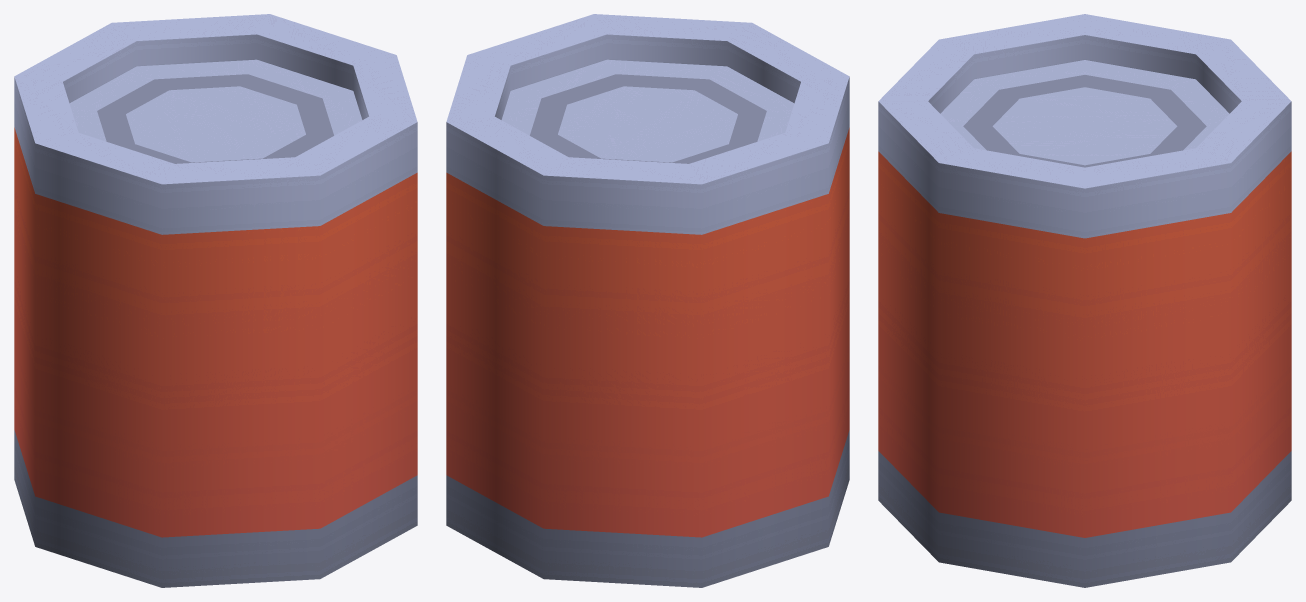
Rendered from can.glb.
3 views of the same model, side by side, from view 1: azimuth 30°, elevation 25°; view 2: azimuth 150°, elevation 25°; view 3: azimuth 270°, elevation 25° (orthographic).
Parts seen in each view (by area): view 1: can; view 2: can; view 3: can.
Boxes of the visible parts, left/top/right/bottom form: can: left=14, top=14, right=417, bottom=587; can: left=446, top=14, right=849, bottom=587; can: left=878, top=14, right=1291, bottom=587.
Size of the model in its own units: 0.3 by 0.32 by 0.3.
1 material, 1 textured.
